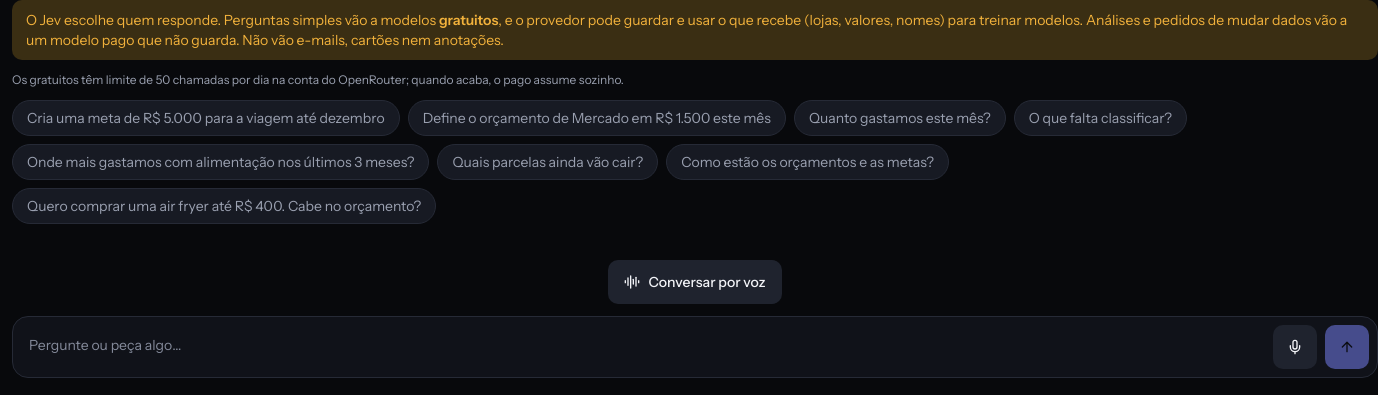
Test: ChatPanel › limpar apaga da tela e do aparelho
Click the button "Quanto gastamos este mês?".
click(900, 118)  # box [794,100,1006,136]
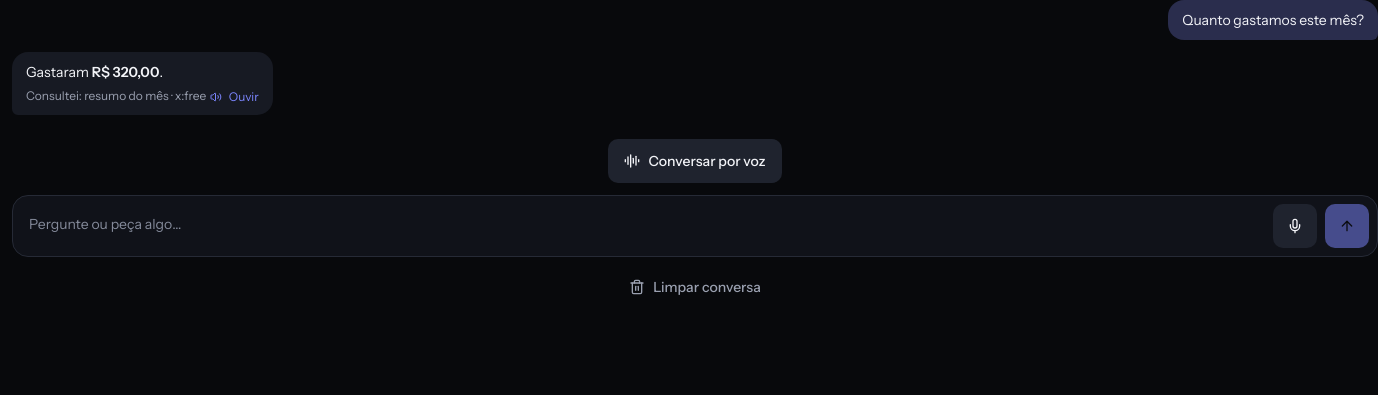
Check: the text "R$ 320,00" is shown, box [92,63,160,81]
Click the button "Limpar conversa".
click(695, 287)  # box [617,269,773,305]
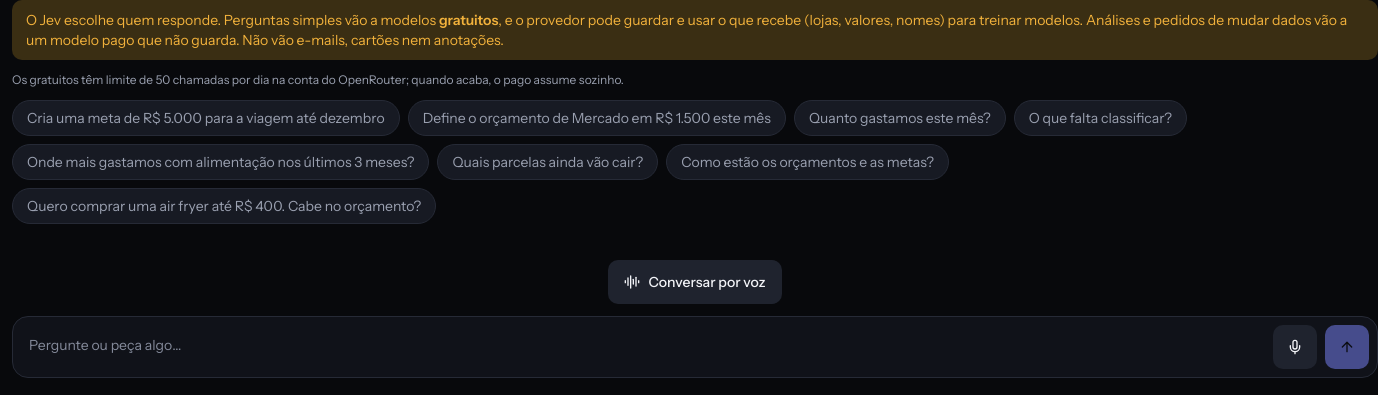
Check: the text "R$ 320,00" is gone
